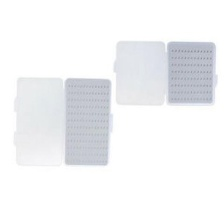foam_box: (9, 72, 117, 174), (108, 37, 222, 110)
